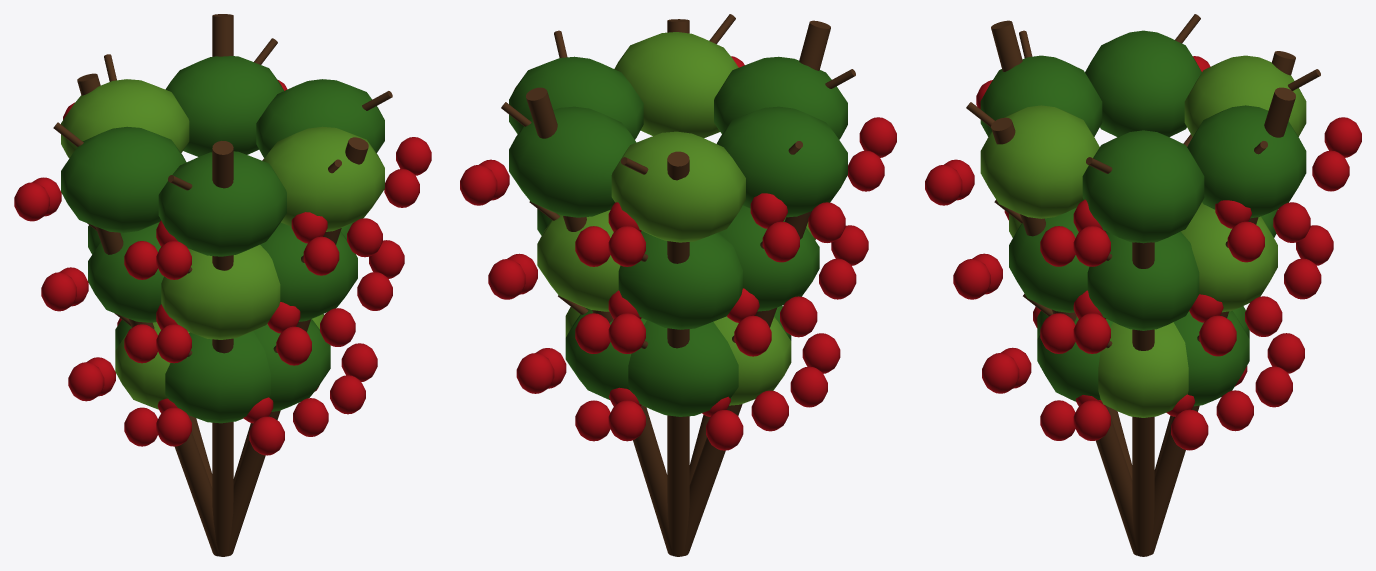
The model's file is Ribizlibokor.obj.
3 views of the same model, side by side, from view 1: azimuth 30°, elevation 25°; view 2: azimuth 150°, elevation 25°; view 3: azimuth 270°, elevation 25° (orthographic). The views are drawn at different scales.
Bounding box in the file's own units: 0.9861 × 1.23 × 0.98.
